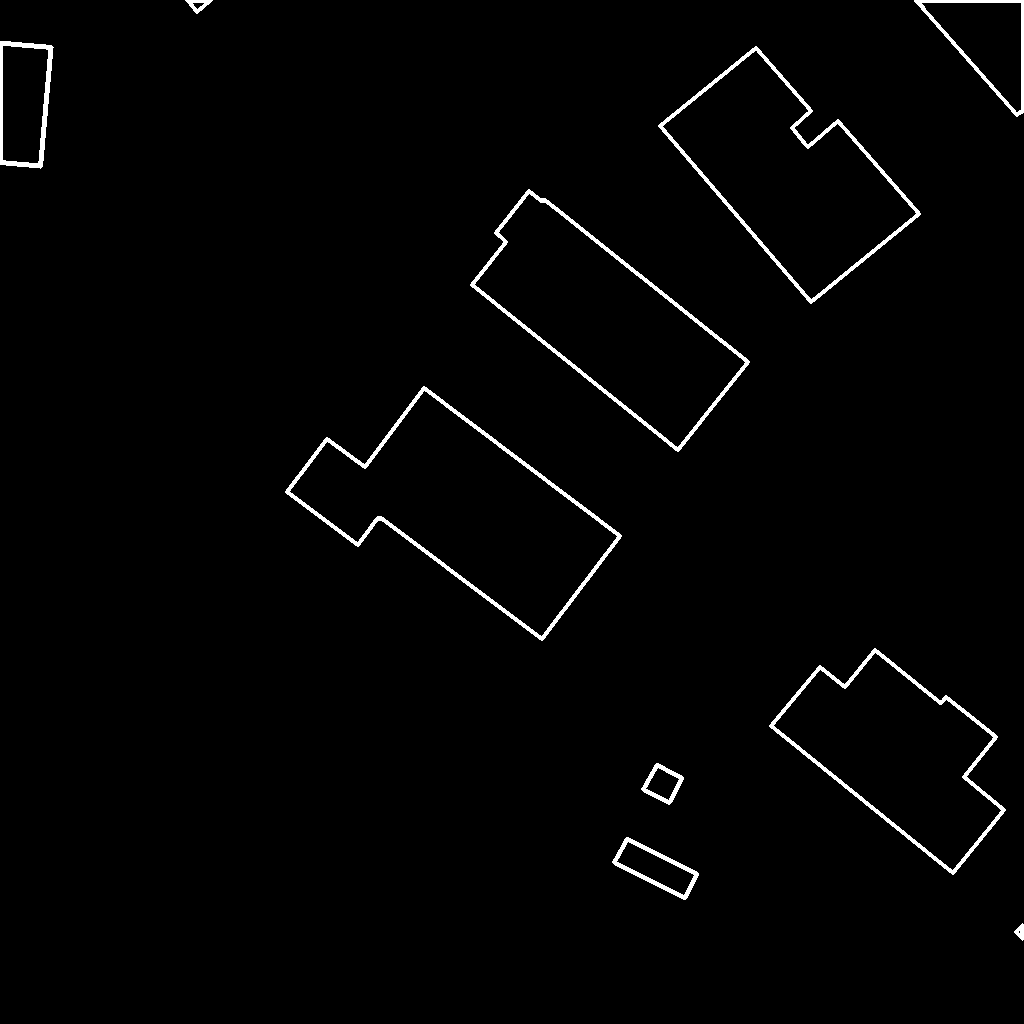building: (287, 388, 621, 640), (472, 191, 749, 451), (660, 48, 920, 303), (771, 650, 1005, 874), (915, 0, 1024, 116), (0, 43, 52, 167), (614, 839, 698, 899), (643, 765, 683, 804), (187, 0, 212, 13), (1016, 925, 1024, 940)
